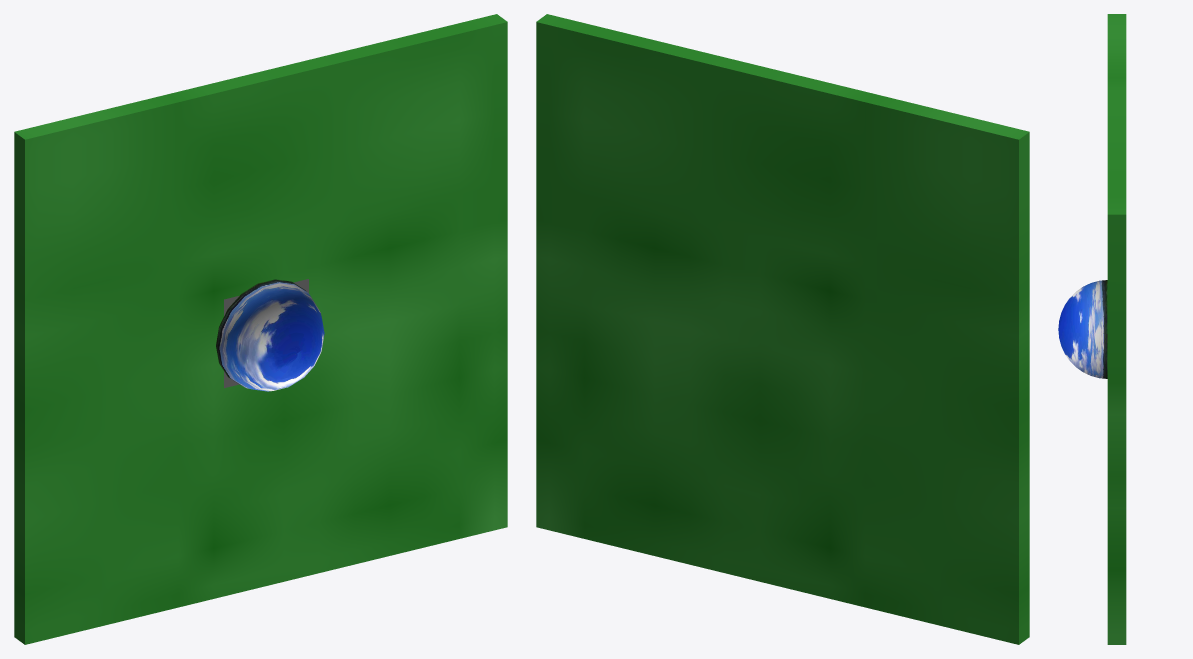
File: castleConquest.obj
3 renders of one model, left to right at view 1: azimuth 30°, elevation 25°; view 2: azimuth 150°, elevation 25°; view 3: azimuth 270°, elevation 25°, orthographic. The views are drawn at different scales.
Visible parts, largest first — view 1: pground, pSphere1; view 2: pground; view 3: pground, pSphere1.
Part boxes in pixels (box(x1,y1,x2,y2)): pground: box(14, 14, 507, 644); pSphere1: box(216, 279, 324, 391); pground: box(536, 14, 1029, 644); pground: box(1107, 14, 1126, 644); pSphere1: box(1058, 280, 1107, 378).
Bounding box in the file's own units: 5121 × 5121 × 1297.
12 materials, 8 textured.
